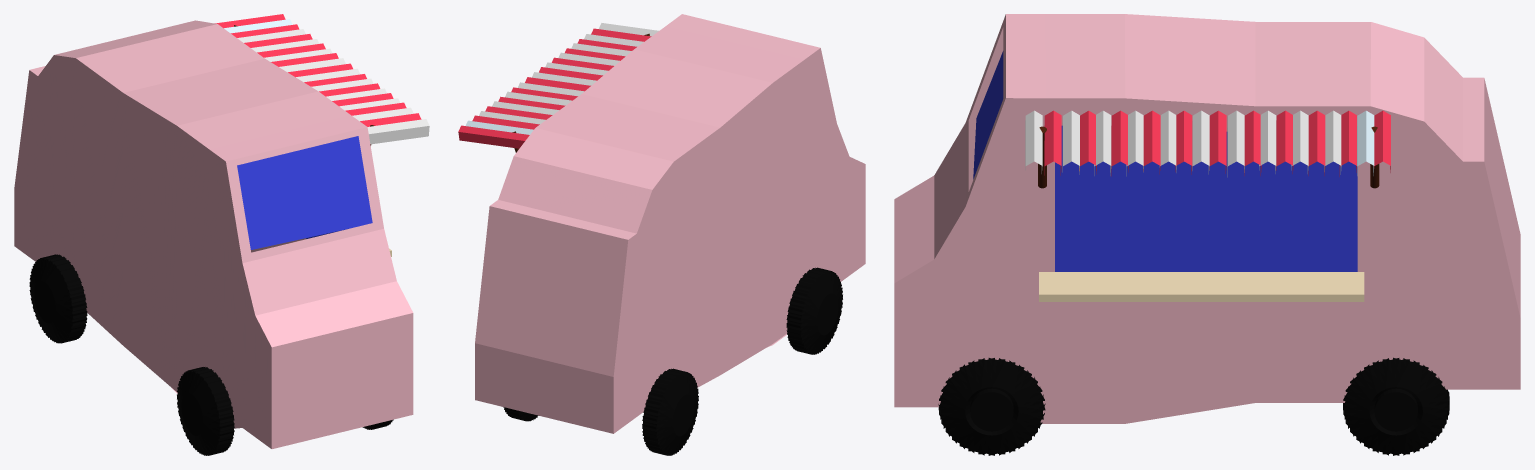
Rendered from Van.fbx.
3 renders of one model, left to right at view 1: azimuth 30°, elevation 25°; view 2: azimuth 150°, elevation 25°; view 3: azimuth 270°, elevation 25°, orthographic. The views are drawn at different scales.
Visible parts, largest first — view 1: Cube, Plane.022, Cylinder.002, Cylinder.004, Plane.020, Plane.011, Plane.014, Plane.019, Plane.016, Plane.021, Plane.012, Plane (+1 smaller); view 2: Cube, Cylinder.002, Cylinder.004, Plane.021, Plane.010, Plane.013, Plane.018, Plane.019, Plane.011, Plane.015; view 3: Cube, Plane.023, Cube.001, Cylinder.001, Cylinder.003, Plane.022, Plane.011, Plane.016, Plane.009, Plane.010, Plane, Plane.006 (+16 smaller).
Part boxes in pixels (x1,y1,x2,y2): Cube: (14, 20, 413, 448); Plane.022: (237, 136, 372, 249); Cylinder.002: (29, 254, 87, 343); Cylinder.004: (177, 367, 234, 455); Plane.020: (367, 119, 429, 144); Plane.011: (279, 58, 345, 72); Plane.014: (257, 43, 325, 57); Plane.019: (224, 19, 292, 33); Plane.016: (244, 34, 312, 47); Plane.021: (215, 14, 285, 28); Plane.012: (271, 53, 338, 66); Plane: (360, 113, 421, 126); Cube: (475, 14, 865, 433); Cylinder.002: (642, 368, 698, 455); Cylinder.004: (786, 267, 842, 354); Plane.021: (458, 125, 529, 148); Plane.010: (525, 77, 590, 91); Plane.013: (505, 91, 571, 105); Plane.018: (472, 115, 539, 129); Plane.019: (465, 120, 533, 134); Plane.011: (517, 82, 584, 96); Plane.015: (492, 101, 559, 114); Cube: (894, 14, 1520, 423); Plane.023: (1055, 125, 1357, 271); Cube.001: (1039, 272, 1364, 301); Cylinder.001: (1343, 357, 1449, 455); Cylinder.003: (938, 358, 1045, 455); Plane.022: (973, 51, 1003, 179); Plane.011: (1227, 110, 1244, 177); Plane.016: (1308, 110, 1325, 175); Plane.009: (1192, 110, 1209, 174); Plane.010: (1209, 110, 1226, 173); Plane: (1044, 110, 1061, 175); Plane.006: (1143, 110, 1160, 174).
Bounding box in the file's own units: 213 × 260 × 407.
